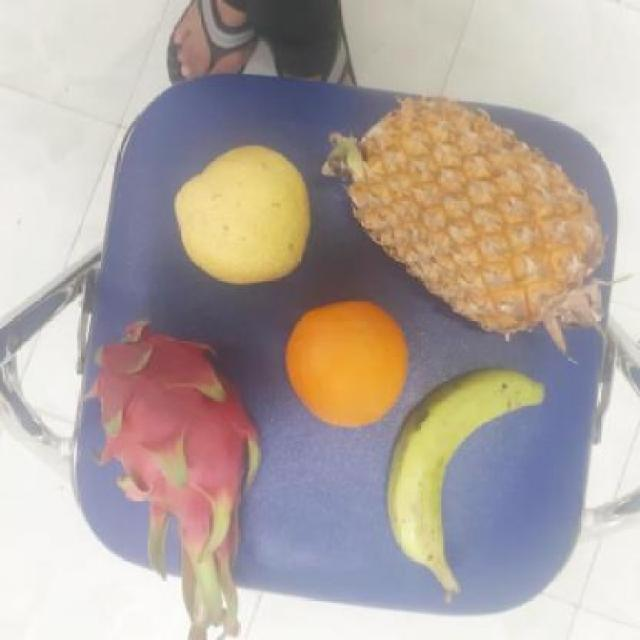banana: (391, 366, 534, 585)
dragon fruit: (80, 328, 268, 572)
oren: (283, 303, 412, 429)
pear: (172, 149, 316, 289)
pineapple: (334, 98, 617, 340)
